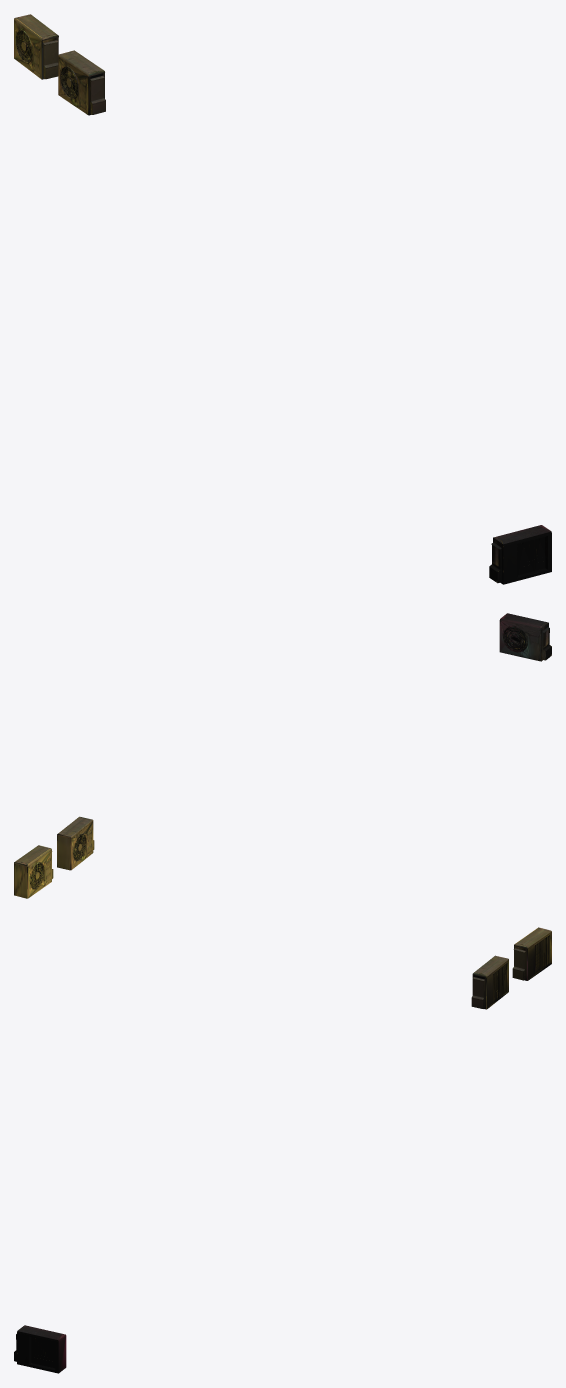
The picture shows the model from 3 angles, top to bottom: view 1: azimuth 30°, elevation 25°; view 2: azimuth 150°, elevation 25°; view 3: azimuth 330°, elevation 25°; orthographic projection. The views are drawn at different scales.
Parts seen in each view (by area): view 1: prop1; view 2: prop1; view 3: prop1.
Part boxes in pixels (x1,y1,x2,y2): prop1: [14, 14, 551, 584]; prop1: [14, 613, 551, 898]; prop1: [14, 927, 551, 1373].
Size of the model in its own units: 2.49 by 3.5 by 25.62.
1 material, 1 textured.
